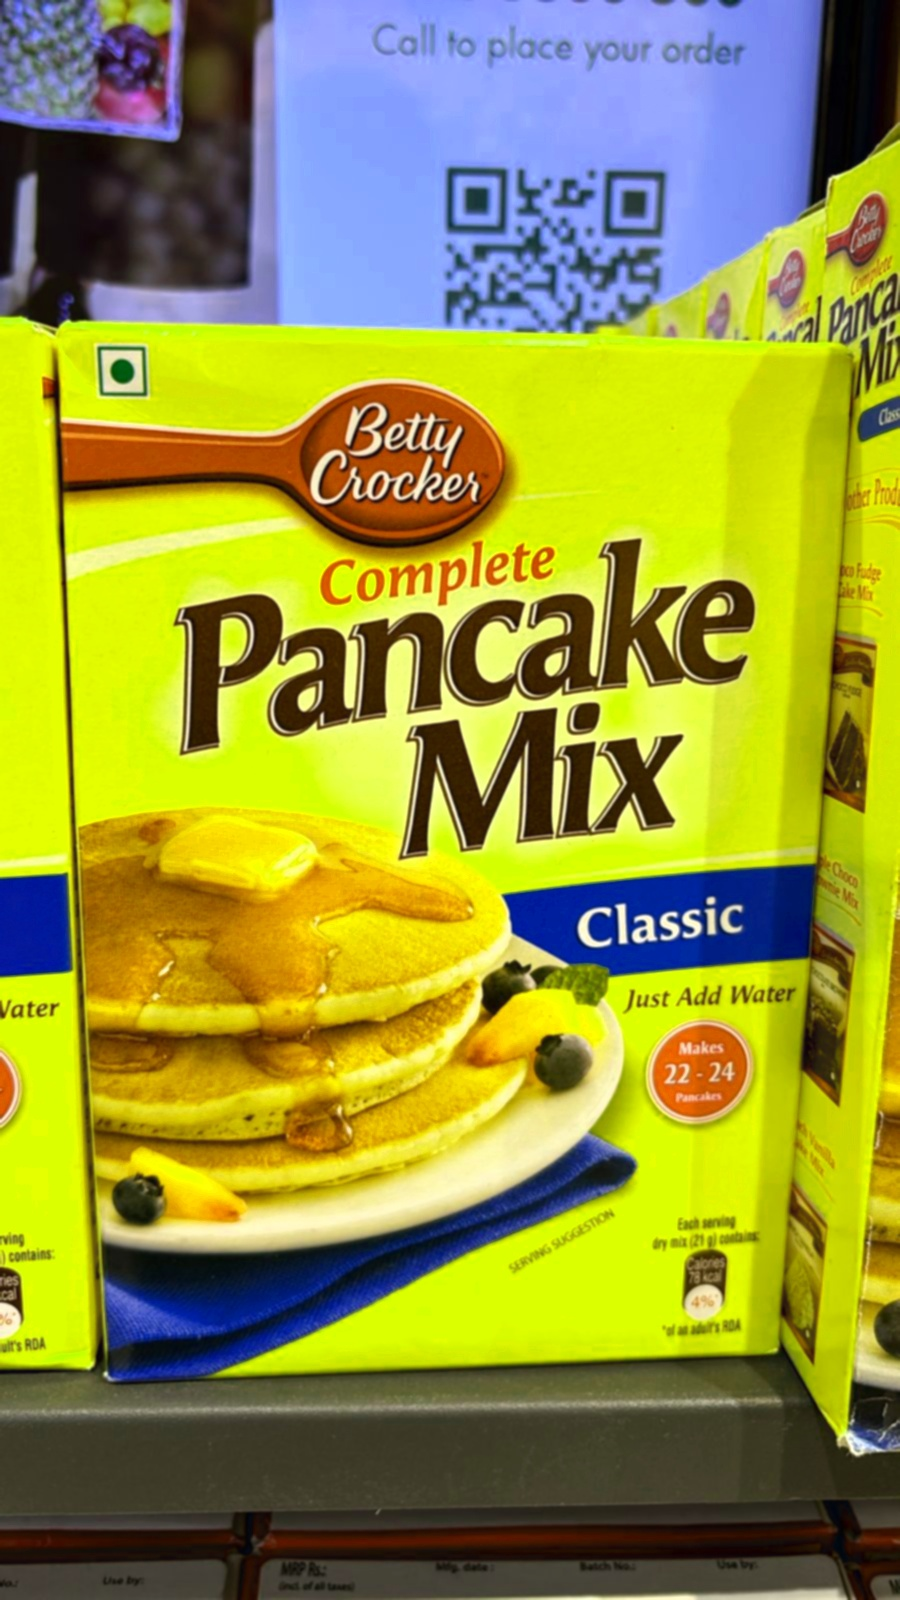Betty Crocker Pancake Mix: (49, 304, 784, 1374)
